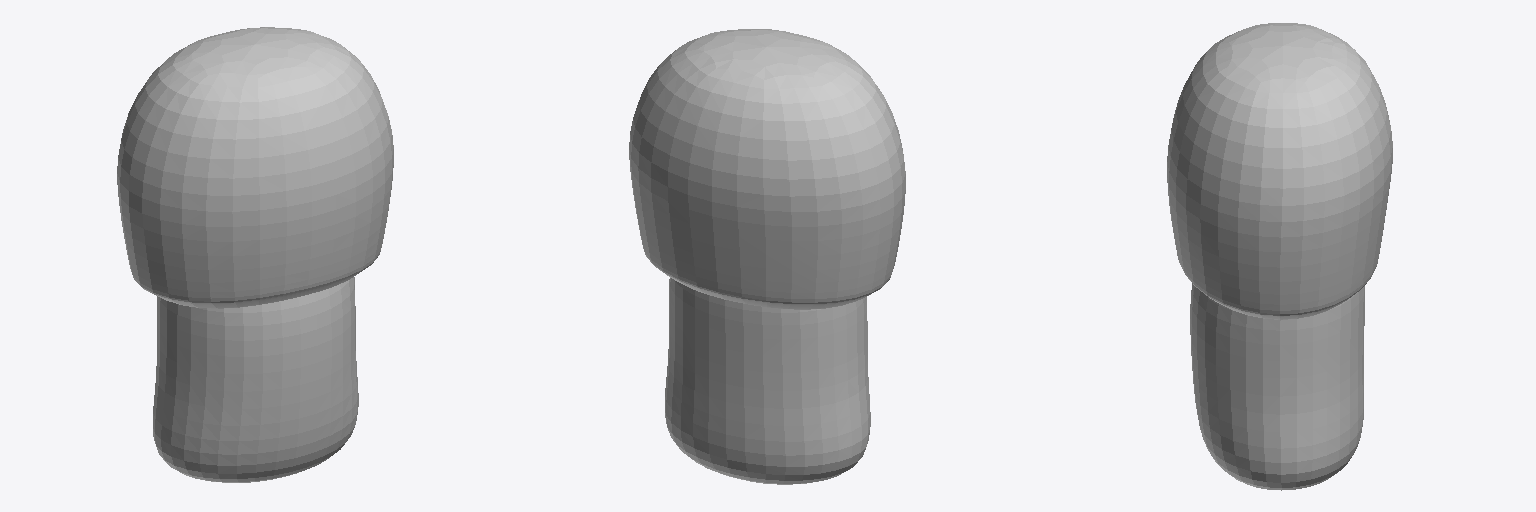
The model's file is abdomem-new.obj.
3 renders of one model, left to right at view 1: azimuth 30°, elevation 25°; view 2: azimuth 150°, elevation 25°; view 3: azimuth 270°, elevation 25°, orthographic.
Bounding box in the file's own units: 0.6882 × 1.09 × 0.5316.